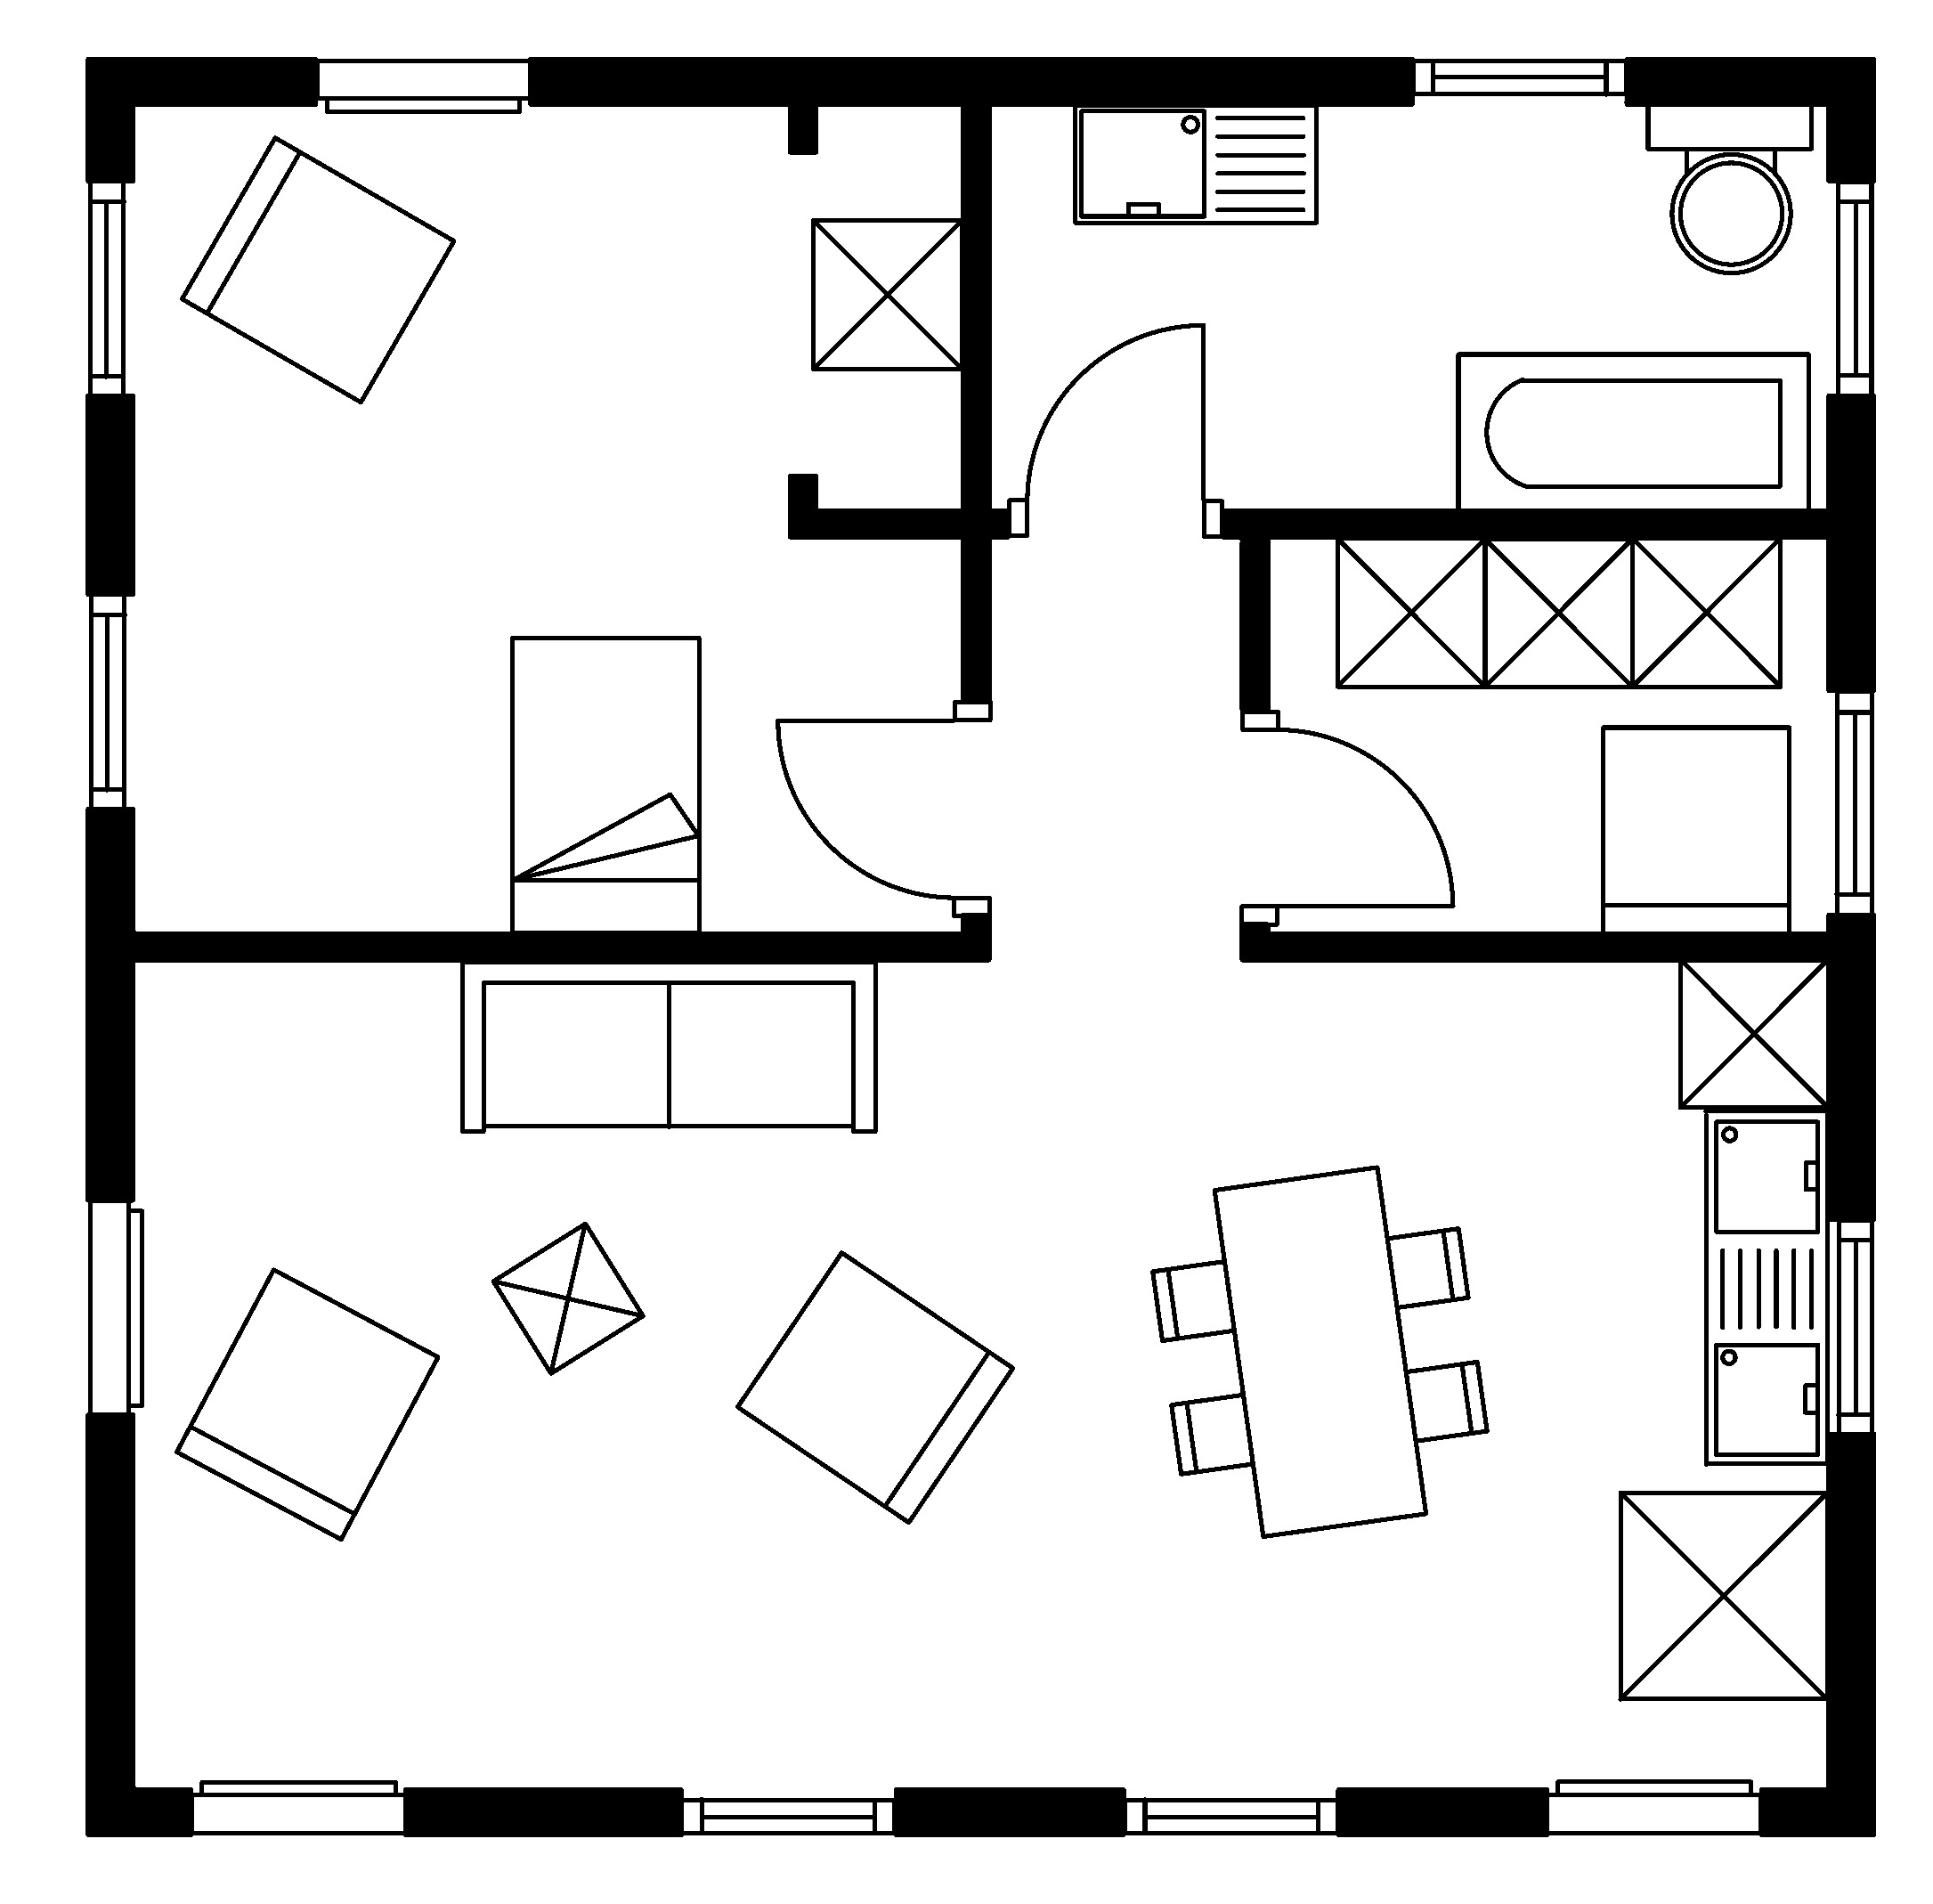basin: (1696, 1105, 1823, 1470), (1068, 105, 1325, 230)
bed: (504, 629, 708, 935)
door: (770, 703, 997, 915), (1009, 319, 1224, 541), (1241, 711, 1461, 926)
rectangleTable: (1145, 1159, 1499, 1547)
window: (84, 176, 131, 399), (1119, 1792, 1342, 1839), (1412, 54, 1626, 103), (1834, 683, 1879, 914), (682, 1794, 892, 1841), (85, 593, 131, 811), (1832, 180, 1877, 396), (1834, 1214, 1877, 1437)
